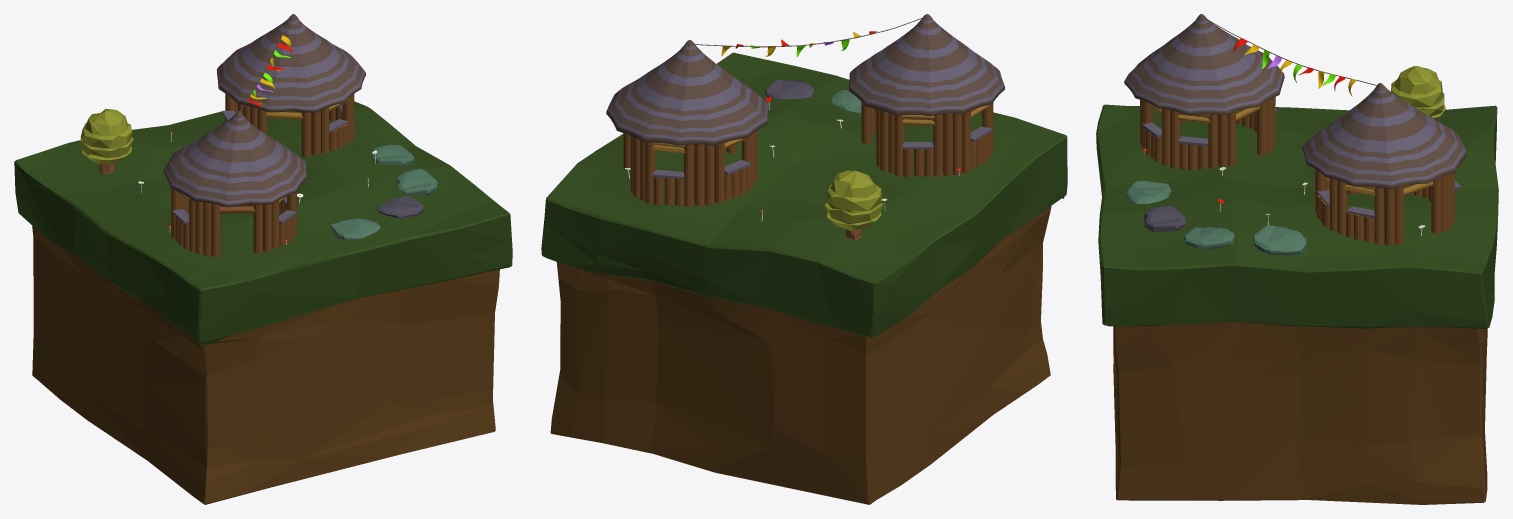
Rendered from tile_playhut.min.gltf.
3 views of the same model, side by side, from view 1: azimuth 30°, elevation 25°; view 2: azimuth 150°, elevation 25°; view 3: azimuth 270°, elevation 25° (orthographic). The views are drawn at different scales.
Parts seen in each view (by area): view 1: CENTERED.013, roof.003, roof.002, Cylinder.058, Cylinder.048, Circle.021, Box001.046, Box001.048, Box001.047, Box001.045, confetti hanging; view 2: CENTERED.013, roof.003, roof.002, Cylinder.048, Cylinder.058, Circle.021, Box001.047; view 3: CENTERED.013, roof.003, roof.002, Cylinder.048, Cylinder.058, Circle.021, Box001.045, Box001.046, Box001.047, confetti hanging, Box001.048, Cylinder.047 (+1 smaller).
Part boxes in pixels (box(x1,y1,x2,y2)): CENTERED.013: box(14, 101, 512, 504); roof.003: box(216, 14, 365, 112); roof.002: box(163, 111, 306, 207); Cylinder.058: box(171, 189, 296, 256); Cylinder.048: box(225, 94, 354, 156); Circle.021: box(80, 108, 133, 174); Box001.046: box(396, 168, 437, 195); Box001.048: box(330, 218, 380, 240); Box001.047: box(377, 196, 423, 218); Box001.045: box(371, 144, 414, 165); confetti hanging: box(247, 35, 292, 107); CENTERED.013: box(541, 52, 1067, 504); roof.003: box(606, 40, 769, 145); roof.002: box(849, 14, 1004, 116); Cylinder.048: box(623, 130, 757, 206); Cylinder.058: box(861, 59, 993, 177); Circle.021: box(824, 170, 882, 240); Box001.047: box(765, 80, 813, 99); CENTERED.013: box(1096, 104, 1498, 504); roof.003: box(1302, 83, 1466, 189); roof.002: box(1124, 14, 1284, 115); Cylinder.048: box(1315, 169, 1455, 245); Cylinder.058: box(1140, 97, 1275, 170); Circle.021: box(1391, 66, 1445, 119); Box001.045: box(1252, 225, 1306, 255); Box001.046: box(1183, 227, 1234, 249); Box001.047: box(1144, 205, 1186, 232); confetti hanging: box(1233, 38, 1356, 96); Box001.048: box(1126, 180, 1171, 204); Cylinder.047: box(1145, 101, 1260, 123).
Bounding box in the file's own units: 1.07 × 1.13 × 1.09.
